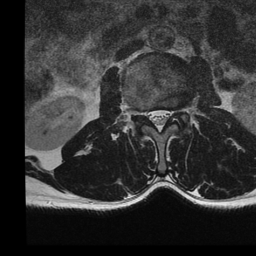CCS_normal: (156, 105, 162, 136)
LFS_severe_stenosis: (171, 102, 179, 121)
LLS_normal: (163, 104, 170, 128)
RFS_stenosis: (139, 104, 146, 125)
RLS_normal: (147, 103, 155, 127)
